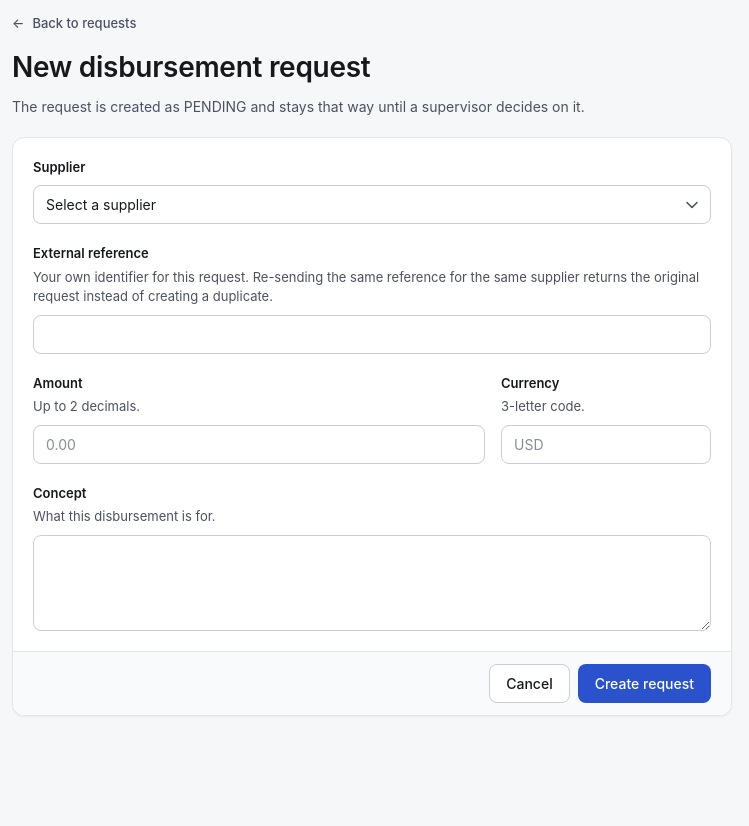
Test: NewRequestPage › shows a server-side error message when creation fails
Select "Acme Logistics SA (TAX-0001)" in the dropdown labelled "Supplier" at point(372, 204), box [33, 185, 711, 224]
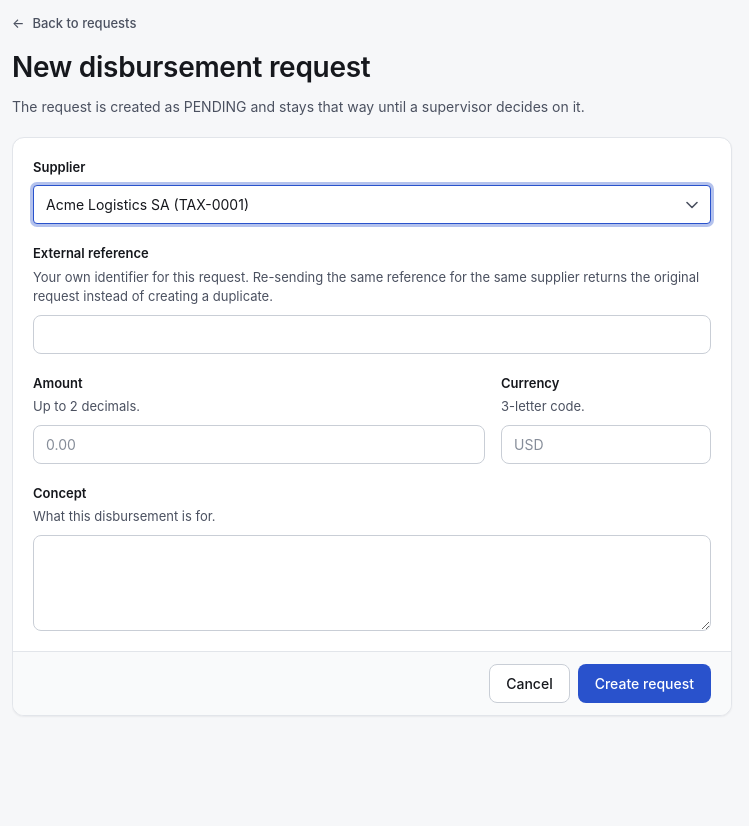
Type "REF-NEW" into the field labelled "External reference" at point(372, 334), box [33, 314, 711, 354]
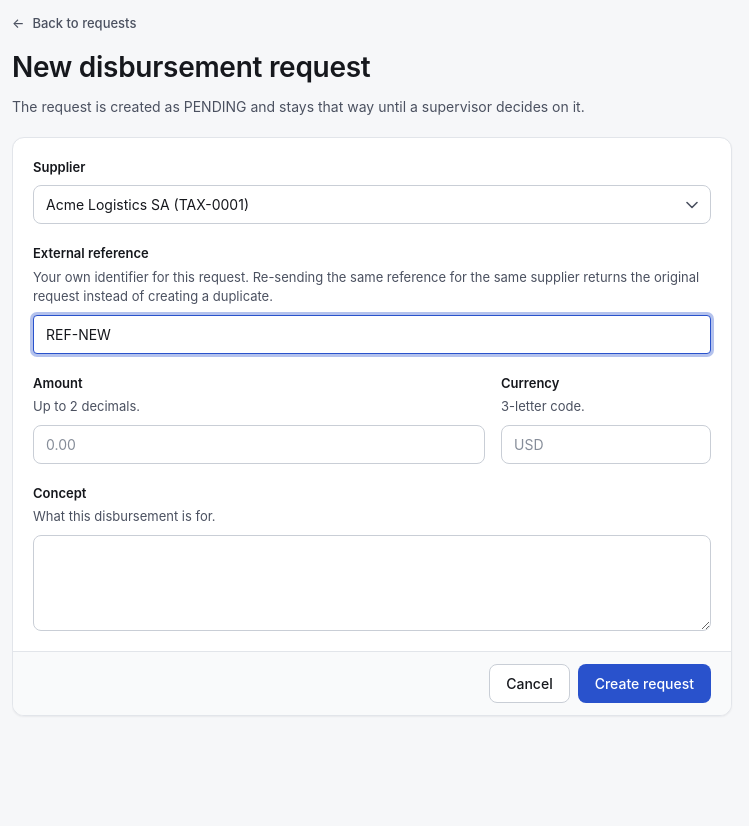
Type "50.00" into the field labelled "Amount" at point(259, 444), box [33, 424, 485, 464]
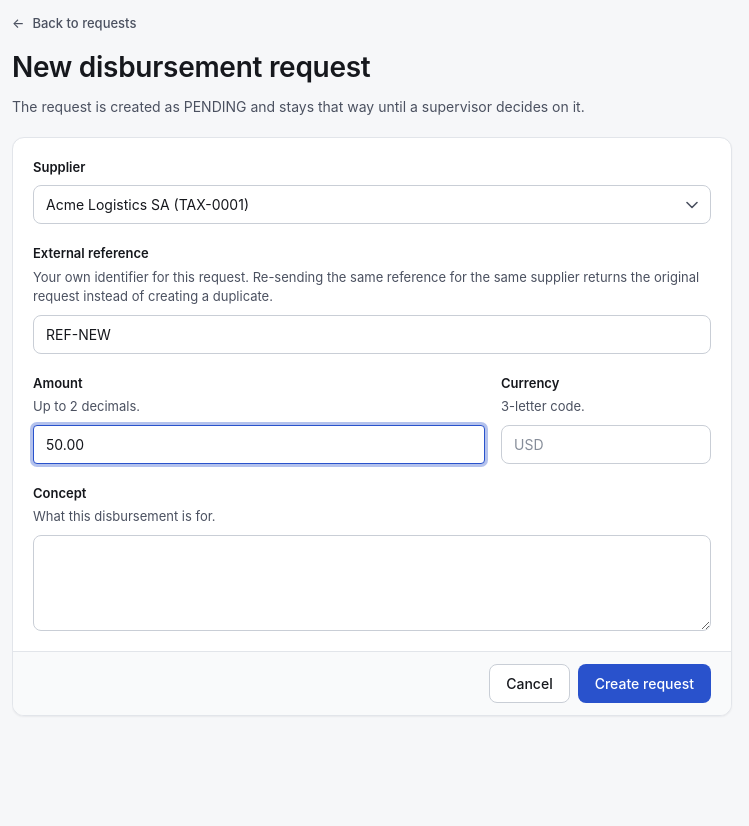
Type "usd" into the field labelled "Currency" at point(606, 444), box [501, 424, 711, 464]
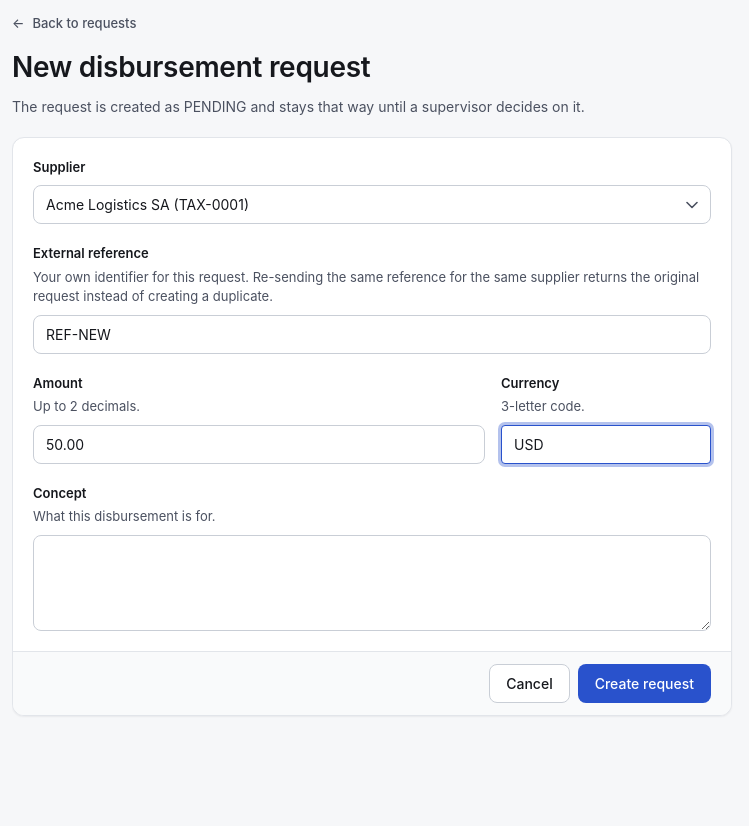
Type "New invoice" into the text box labelled "Concept" at point(372, 582), box [33, 534, 711, 630]
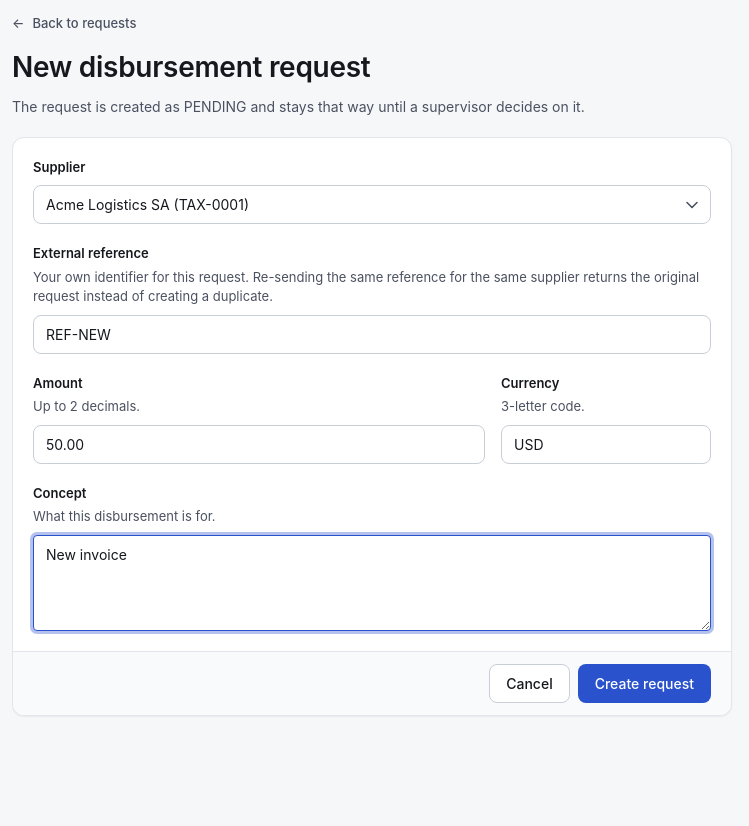
Click the button "Create request" at point(644, 683), box [578, 664, 711, 702]
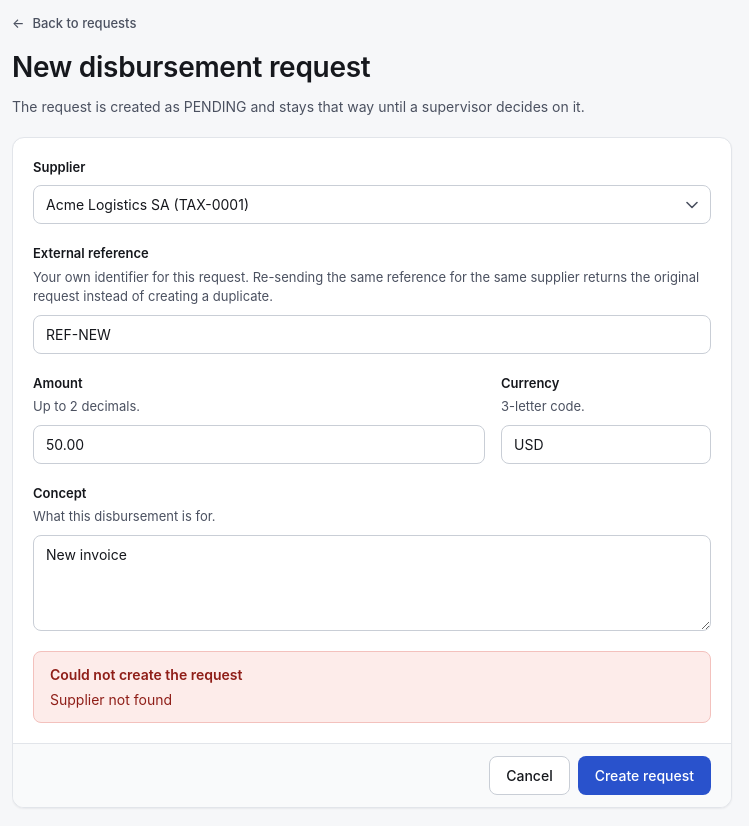
Expected: the text "Supplier not found" is shown, [50, 690, 172, 708]
